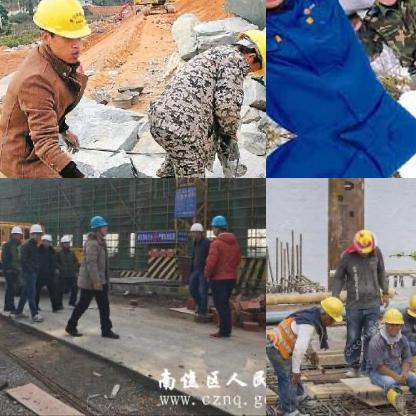Helmet: (24, 0, 93, 61), (225, 23, 265, 73), (318, 294, 344, 324), (380, 305, 402, 335), (352, 225, 376, 252), (87, 212, 107, 240), (404, 287, 415, 323), (185, 221, 203, 240), (210, 213, 224, 237), (8, 224, 22, 242), (30, 222, 40, 242), (58, 232, 70, 247), (40, 232, 50, 246)
